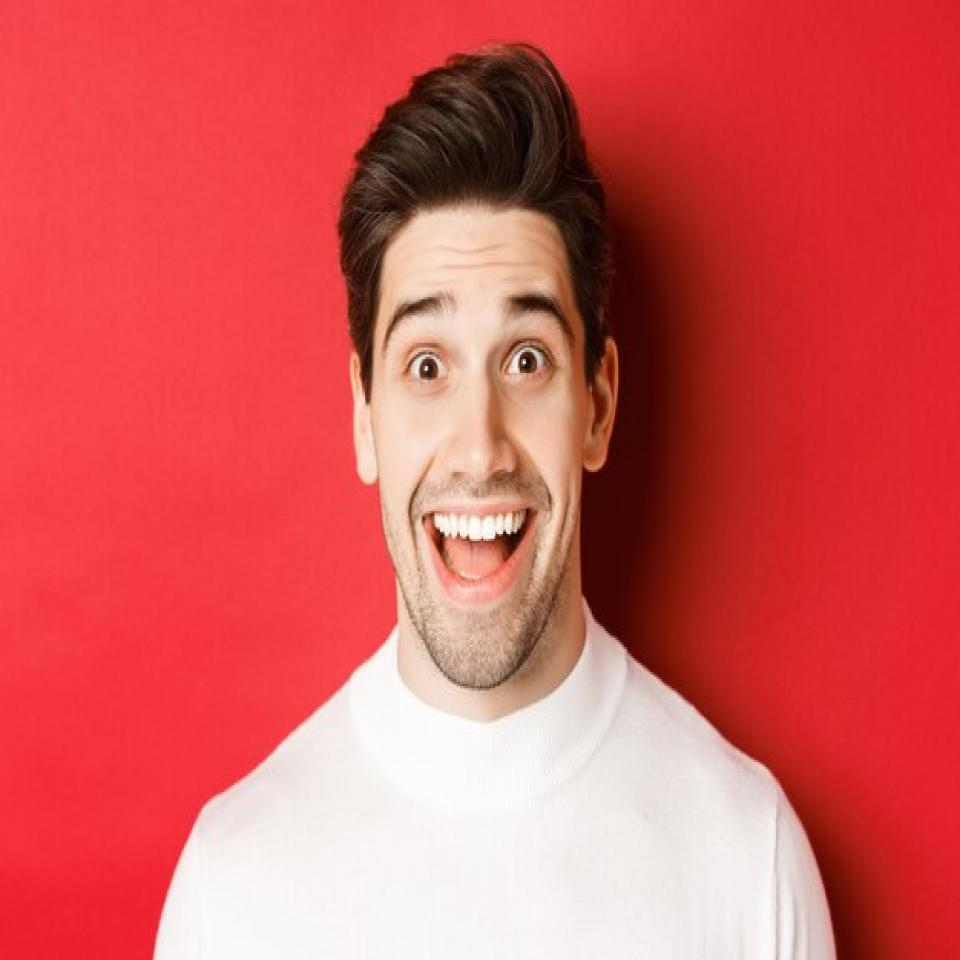Happiness: (354, 207, 615, 686)
